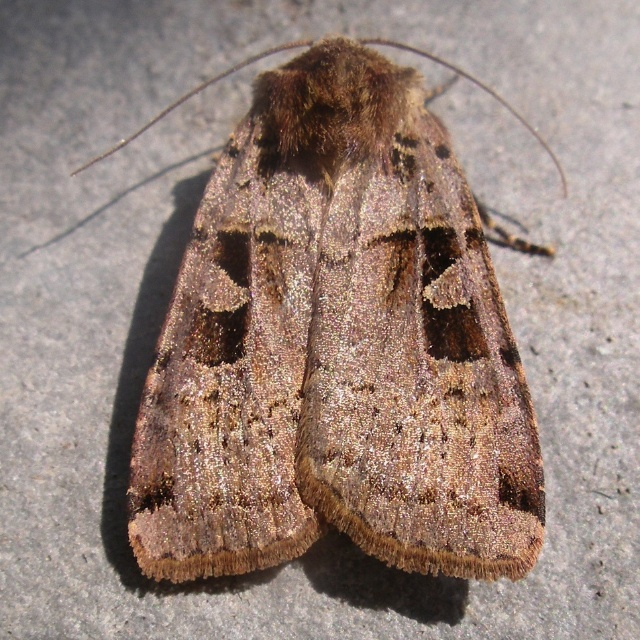Moths and butterflies: (71, 33, 573, 585)
